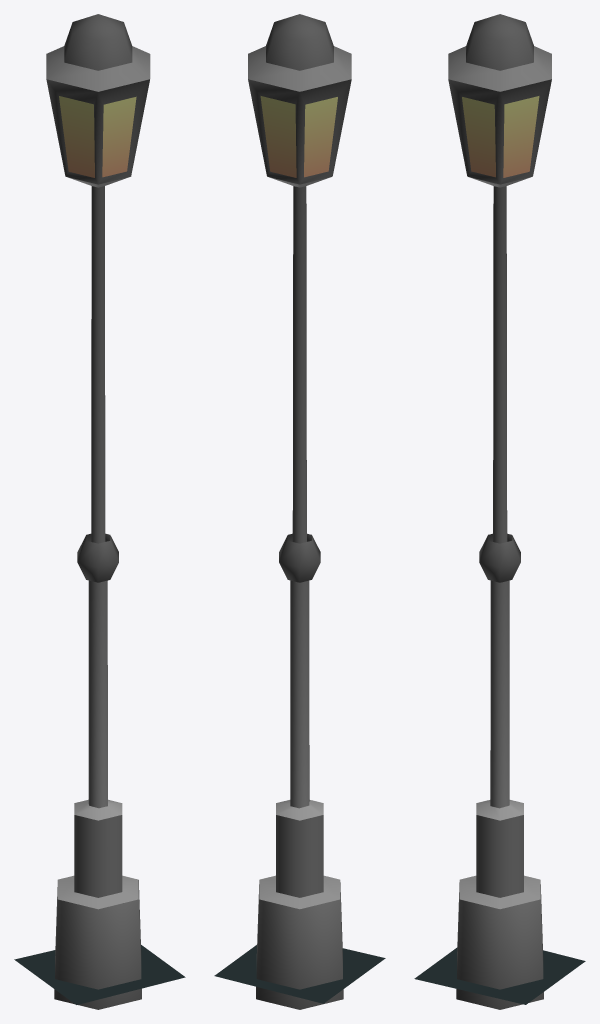
Rendered from street-lamp.fbx.
3 renders of one model, left to right at view 1: azimuth 30°, elevation 25°; view 2: azimuth 150°, elevation 25°; view 3: azimuth 330°, elevation 25°, orthographic.
Visible parts, largest first — view 1: building-block-small.000; view 2: building-block-small.000; view 3: building-block-small.000.
Boxes of the visible parts, box(x1,y1,x2,y2) form: building-block-small.000: box(14, 14, 185, 1009); building-block-small.000: box(214, 14, 385, 1009); building-block-small.000: box(414, 14, 585, 1009).
Bounding box in the file's own units: 0.7672 × 6.46 × 0.7496.
